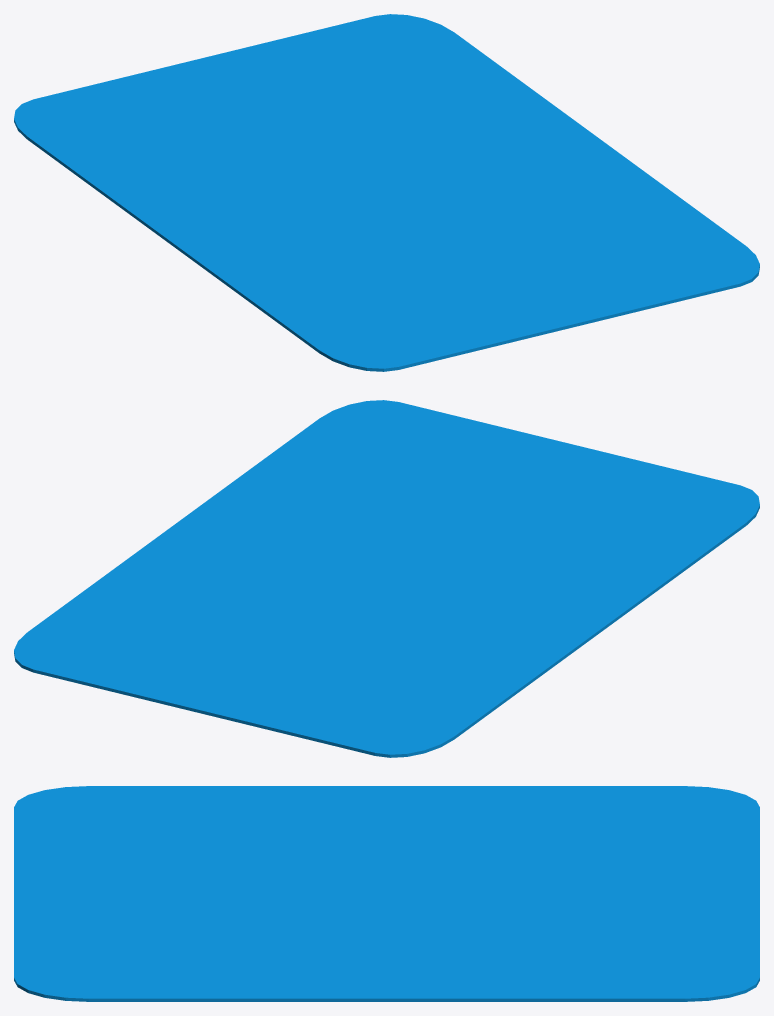
Rendered from mouse Pad.fbx.
3 views of the same model, one above another, from view 1: azimuth 30°, elevation 25°; view 2: azimuth 150°, elevation 25°; view 3: azimuth 270°, elevation 25° (orthographic). The views are drawn at different scales.
Parts seen in each view (by area): view 1: pad; view 2: pad; view 3: pad.
Boxes of the visible parts, x1,y1,x2,y2 form: pad: (14,14,759,371); pad: (14,400,759,757); pad: (14,786,759,1001).
Size of the model in its own units: 77.35 by 0.5396 by 115.
